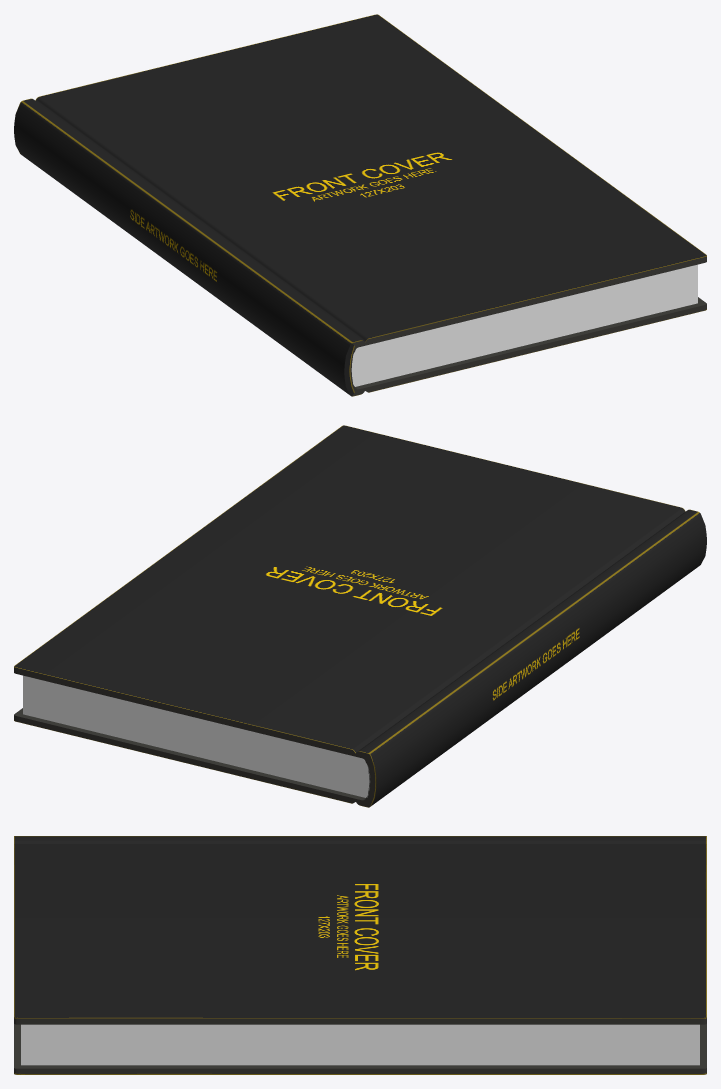
The model's file is BookSM.glb.
The picture shows the model from 3 angles, top to bottom: view 1: azimuth 30°, elevation 25°; view 2: azimuth 150°, elevation 25°; view 3: azimuth 270°, elevation 25°; orthographic projection. The views are drawn at different scales.
Visible parts, largest first — view 1: Book_127x203; view 2: Book_127x203; view 3: Book_127x203.
Boxes of the visible parts, <box> form: Book_127x203: <box>14,14,706,396</box>; Book_127x203: <box>14,425,706,807</box>; Book_127x203: <box>14,836,706,1074</box>.
Bounding box in the file's own units: 0.1317 × 0.0187 × 0.2072.
2 materials, 1 textured.
